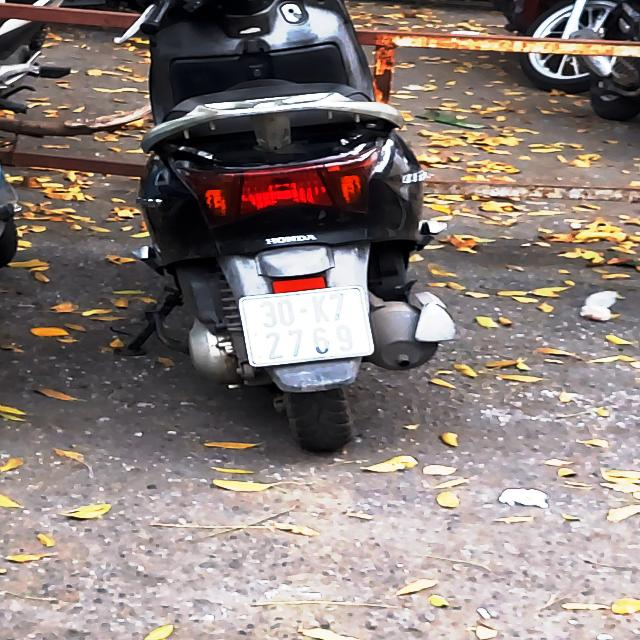license_plate: (230, 281, 398, 377)
